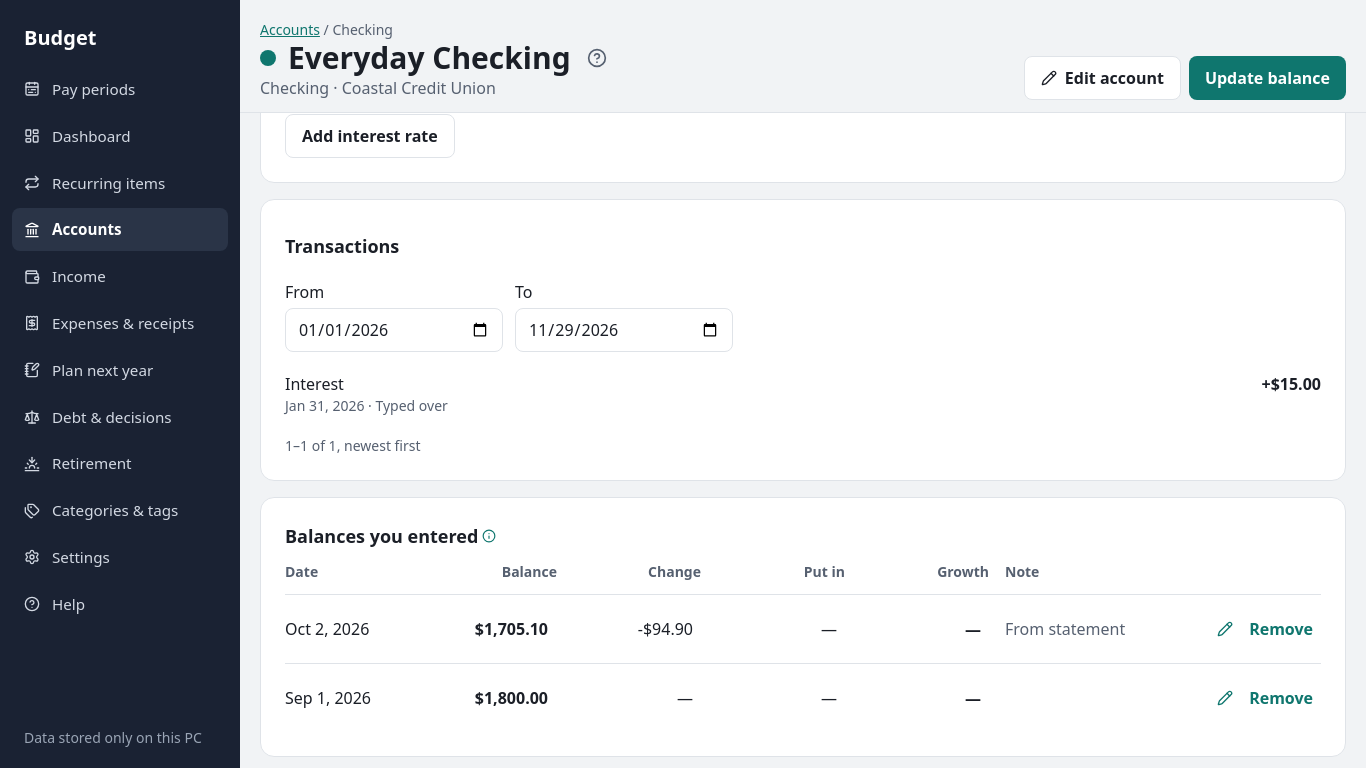
Scenario: account detail screen › says interest was typed over, and puts Budget's estimate back
(page scrolled)
Click the button with aria-label "Edit Interest". click: (314, 384)
box: top-left (285, 372), bottom-right (344, 396)
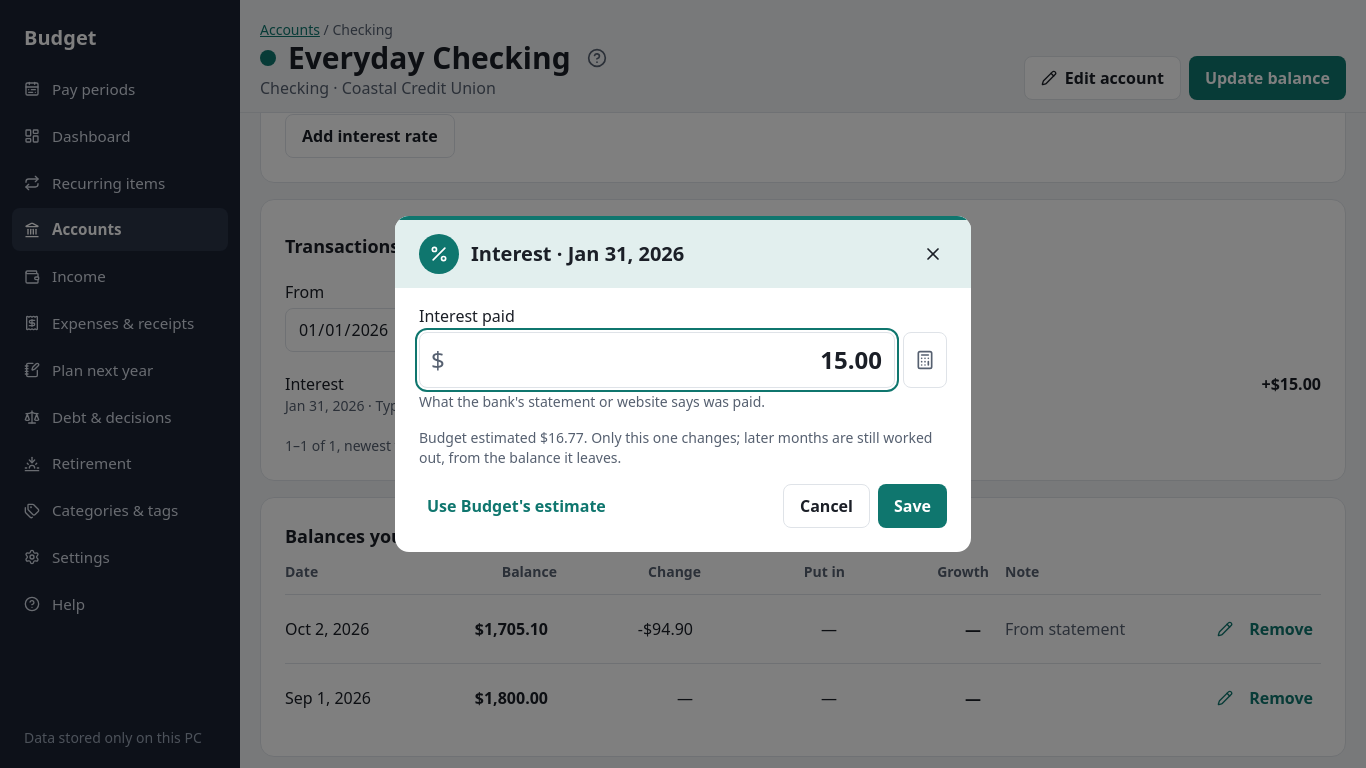
Expected: the dialog "Interest · Jan 31, 2026" shows "Budget estimated $16.77.", top-left (395, 216), bottom-right (971, 552)
Click the button "Use Budget's estimate". click: (516, 506)
box: top-left (419, 484), bottom-right (614, 528)
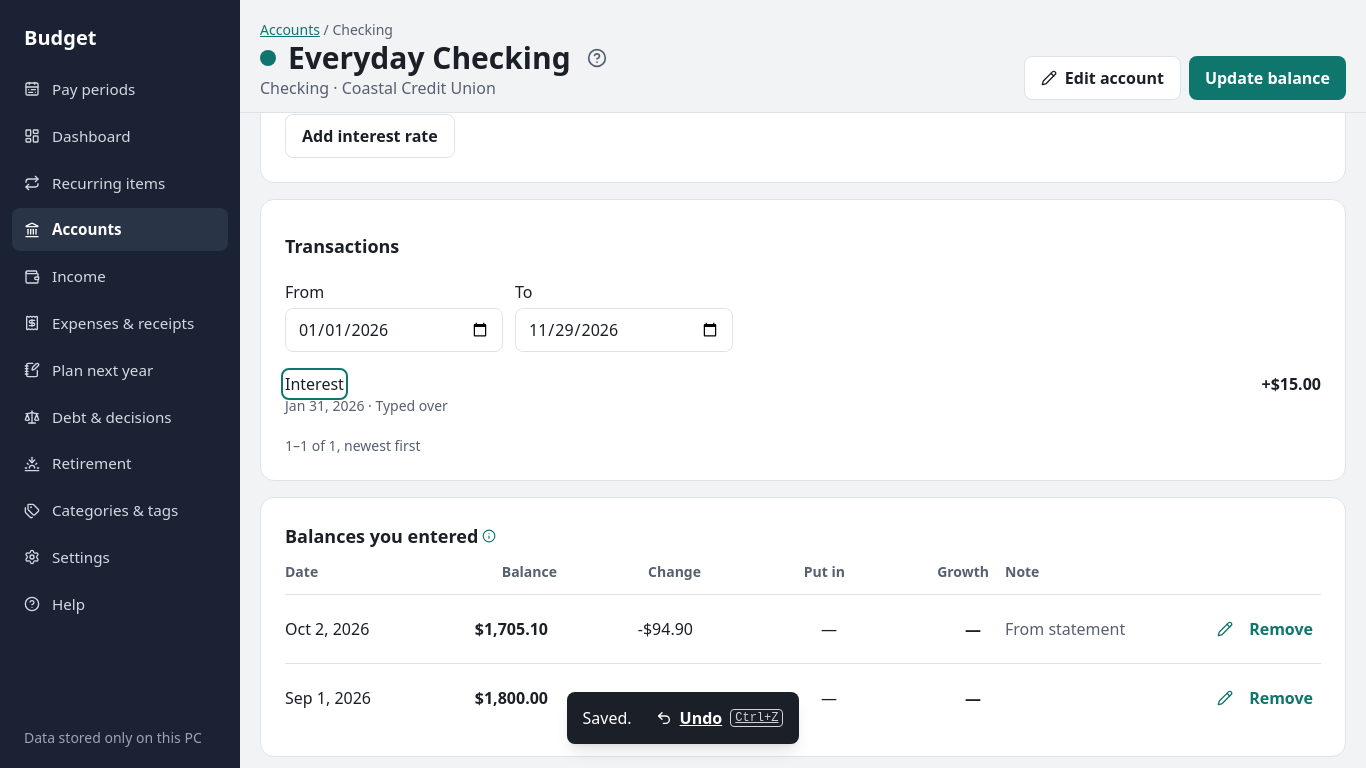
Expected: the dialog is gone
